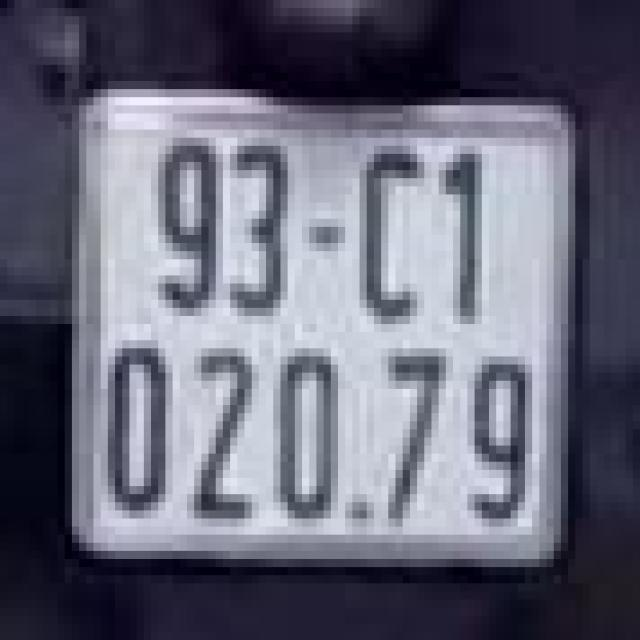0: (83, 332, 176, 519), (262, 344, 349, 522)
1: (435, 138, 500, 324)
2: (176, 332, 255, 535)
3: (223, 122, 302, 324)
7: (367, 336, 453, 539)
9: (457, 344, 543, 547), (144, 142, 223, 312)
C: (349, 134, 435, 328)
